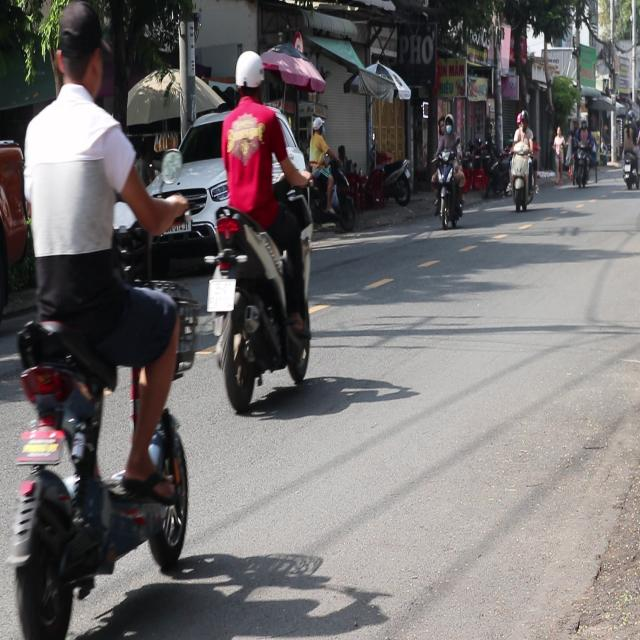helmet: (233, 48, 264, 102)
licenseplate: (1, 2, 196, 636), (203, 46, 316, 412)
motorcyclist: (52, 2, 107, 104)
nohelmet: (207, 279, 236, 311)
